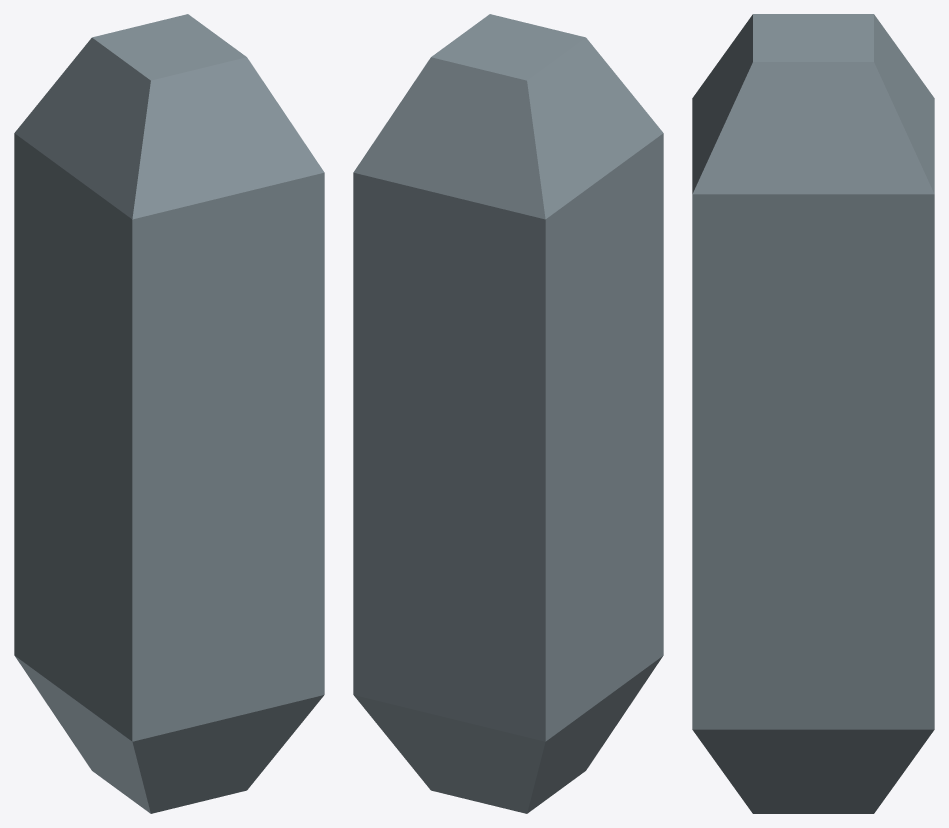
The model's file is AcidMutantUpperLeg.fbx.
3 views of the same model, side by side, from view 1: azimuth 30°, elevation 25°; view 2: azimuth 150°, elevation 25°; view 3: azimuth 270°, elevation 25° (orthographic). The views are drawn at different scales.
Parts seen in each view (by area): view 1: AcidMutantUpperLeg; view 2: AcidMutantUpperLeg; view 3: AcidMutantUpperLeg.
Boxes of the visible parts, box(x1,y1,x2,y2) form: AcidMutantUpperLeg: box(14, 14, 324, 813); AcidMutantUpperLeg: box(353, 14, 663, 813); AcidMutantUpperLeg: box(692, 14, 934, 813).
Bounding box in the file's own units: 0.1568 × 0.5717 × 0.1668.
